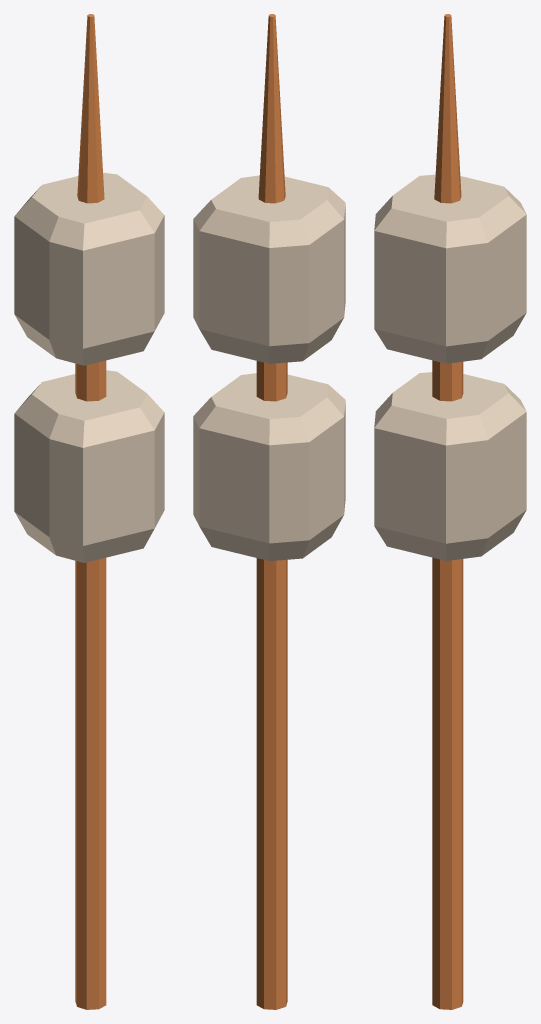
File: marshmellows.glb
The picture shows the model from 3 angles, left to right: view 1: azimuth 30°, elevation 25°; view 2: azimuth 150°, elevation 25°; view 3: azimuth 330°, elevation 25°; orthographic projection.
Parts seen in each view (by area): view 1: marshmellowX2, marshmellowX1; view 2: marshmellowX2, marshmellowX1; view 3: marshmellowX2, marshmellowX1.
Boxes of the visible parts, left/top/right/bottom form: marshmellowX2: left=14, top=14, right=164, bottom=1009; marshmellowX1: left=15, top=17, right=154, bottom=1009; marshmellowX2: left=193, top=14, right=345, bottom=1009; marshmellowX1: left=199, top=16, right=344, bottom=1009; marshmellowX2: left=374, top=14, right=526, bottom=1009; marshmellowX1: left=374, top=16, right=525, bottom=1009.
Size of the model in its own units: 1.07 by 8.85 by 1.07.
